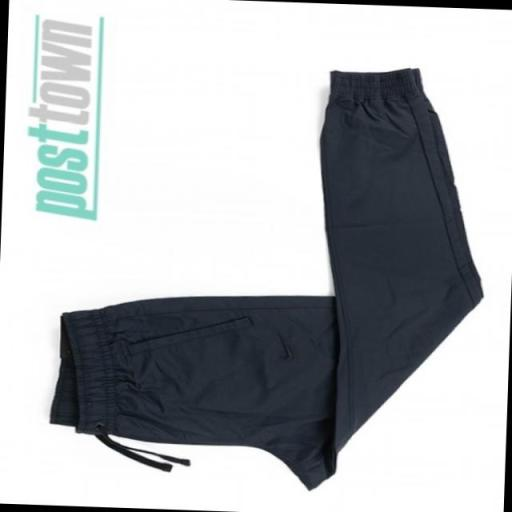Nike: (270, 328, 295, 362)
